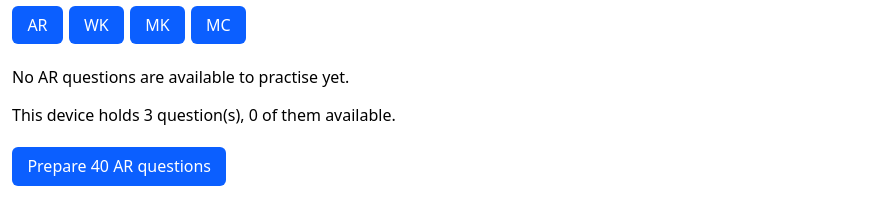
Scenario: PracticeContentView › never offers to generate a subtest the factory cannot serve
Click the button "WK". click: (96, 25)
box: [69,6,124,44]
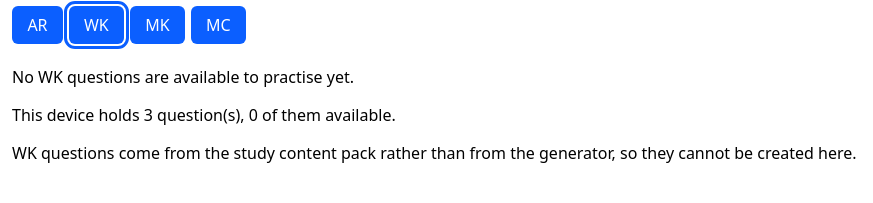
Expected: the element with test id "practice-empty" is shown, [12,66,857,164]
Expected: the text with test id "practice-no-generator" is shown, [12,142,857,164]
